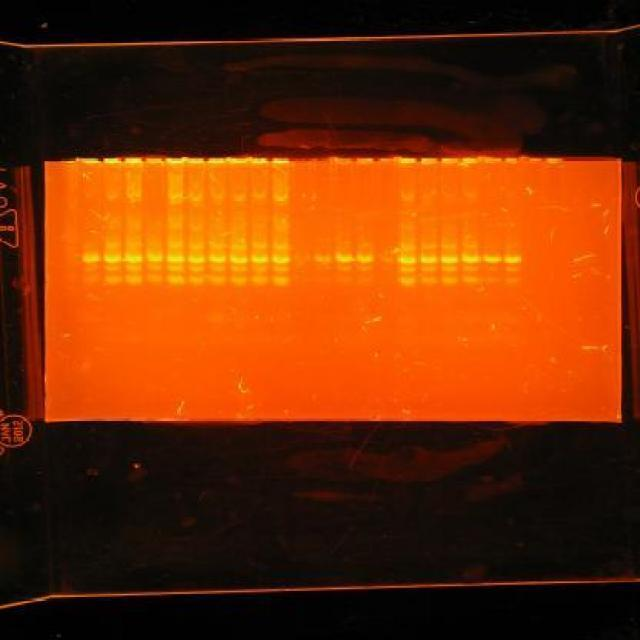B: (272, 274, 291, 288), (356, 250, 374, 264), (460, 274, 480, 286), (462, 188, 480, 201), (167, 274, 186, 286), (103, 274, 122, 286), (439, 253, 459, 264), (460, 253, 480, 264), (502, 253, 522, 264), (272, 240, 290, 252), (102, 253, 121, 264), (229, 253, 248, 264), (313, 253, 332, 264), (166, 262, 185, 273), (210, 274, 227, 286), (189, 274, 206, 286), (124, 274, 144, 284), (82, 274, 102, 284), (270, 264, 290, 274), (186, 264, 206, 274), (82, 253, 100, 264), (124, 253, 142, 264), (482, 252, 500, 263), (398, 276, 416, 287), (250, 240, 268, 251), (250, 189, 268, 200), (398, 190, 416, 201), (145, 252, 164, 262), (229, 276, 248, 286), (229, 264, 248, 274), (250, 254, 268, 264), (335, 252, 353, 262), (144, 273, 164, 282), (250, 264, 268, 274), (102, 264, 122, 273), (440, 276, 458, 286), (420, 264, 438, 274), (440, 264, 458, 274), (462, 264, 480, 274), (208, 264, 227, 273), (145, 263, 164, 272), (125, 264, 144, 273), (356, 274, 373, 284), (168, 219, 183, 230), (482, 264, 500, 273), (335, 263, 353, 272), (397, 256, 417, 264), (270, 192, 290, 200), (250, 276, 270, 284), (188, 242, 204, 252), (188, 222, 204, 232), (103, 240, 120, 249), (187, 255, 206, 263), (418, 256, 437, 264), (483, 276, 502, 284), (229, 242, 248, 250), (272, 256, 290, 264), (82, 264, 100, 272), (420, 276, 438, 284), (398, 266, 416, 274), (208, 242, 226, 250), (420, 242, 438, 250), (356, 264, 374, 272), (334, 274, 352, 282), (400, 242, 414, 252), (504, 264, 521, 272), (503, 276, 520, 284), (440, 242, 457, 250), (230, 192, 247, 200), (273, 224, 290, 232), (168, 241, 183, 250), (441, 190, 456, 199), (166, 255, 185, 262), (462, 242, 478, 250), (210, 192, 226, 200), (125, 240, 141, 248), (208, 255, 226, 262)
L: (56, 150, 572, 168)
Pc: (356, 157, 374, 166), (81, 157, 101, 165), (312, 156, 332, 164), (460, 156, 480, 164), (544, 157, 564, 165), (524, 156, 544, 164), (165, 157, 184, 165), (228, 156, 247, 164), (293, 157, 312, 165), (483, 156, 502, 164), (124, 157, 142, 165), (250, 157, 268, 165), (335, 157, 353, 165), (272, 157, 290, 165), (378, 157, 396, 165), (400, 157, 418, 165), (420, 157, 438, 165), (440, 157, 458, 165), (504, 156, 522, 164), (61, 157, 78, 165), (188, 157, 205, 165), (208, 157, 225, 165), (146, 156, 162, 164), (102, 158, 121, 164)
